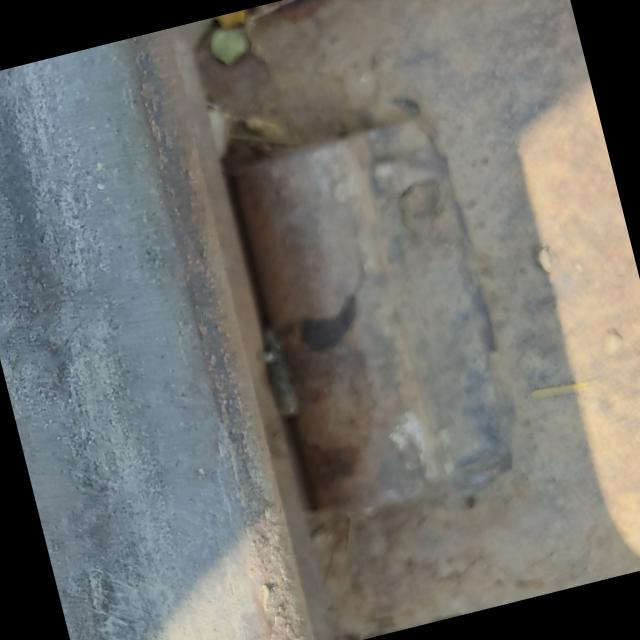track_bolt_missing: (224, 121, 461, 537)
